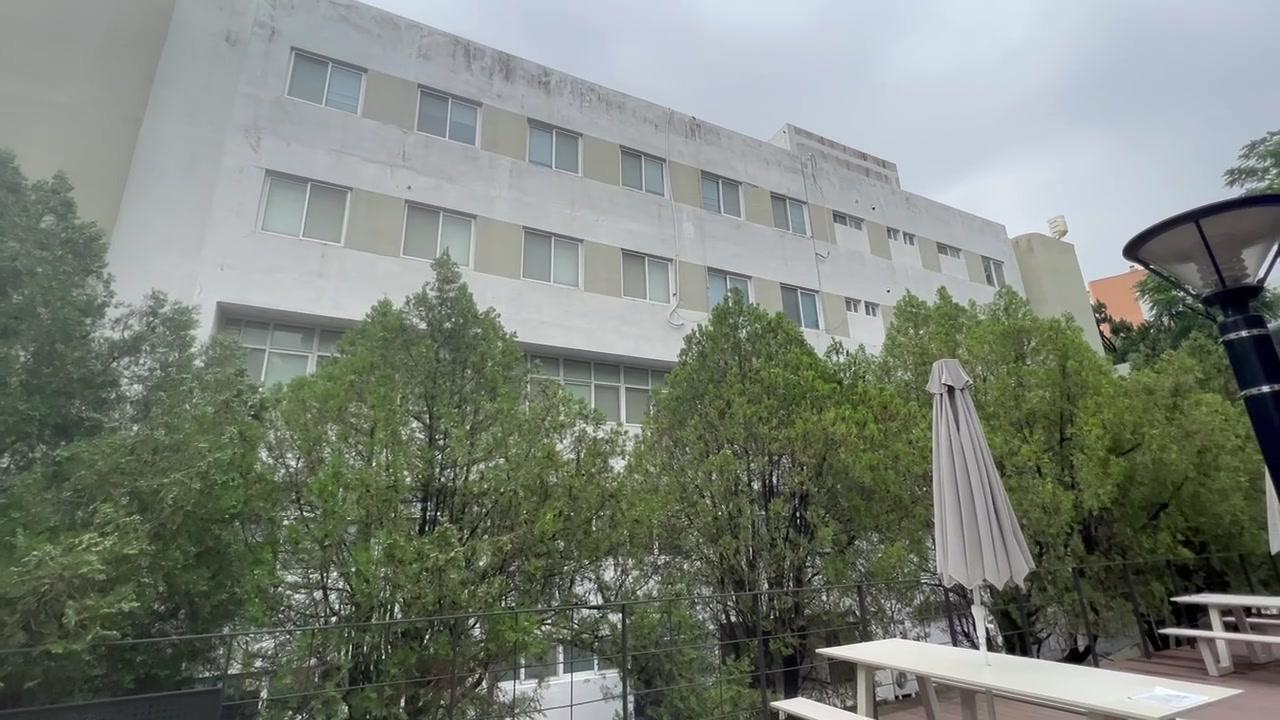building: (184, 27, 909, 329)
